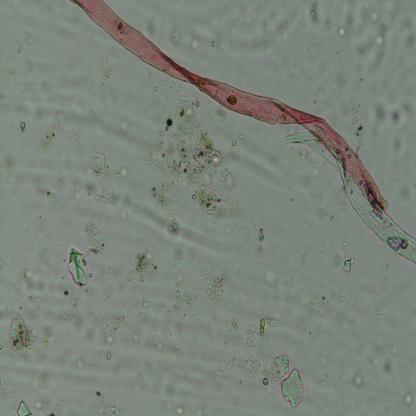Background material: (131, 72, 246, 227), (10, 292, 52, 358), (76, 148, 114, 212), (166, 271, 204, 332), (268, 353, 307, 410), (57, 285, 95, 330), (296, 296, 326, 352), (124, 244, 160, 286), (242, 314, 280, 352), (341, 98, 364, 152), (84, 384, 119, 416), (67, 245, 93, 288), (371, 96, 402, 130), (358, 26, 388, 61), (21, 264, 54, 294), (82, 218, 106, 258), (37, 113, 61, 153), (202, 269, 229, 304), (209, 351, 239, 380), (97, 301, 128, 329), (26, 201, 51, 235), (244, 358, 271, 388), (94, 329, 115, 366), (372, 340, 393, 376), (4, 40, 24, 76), (309, 0, 331, 32), (336, 5, 356, 37), (0, 368, 17, 402), (271, 14, 291, 42), (396, 178, 413, 209), (118, 180, 131, 220), (334, 60, 350, 92), (37, 396, 61, 416), (249, 32, 271, 53), (164, 212, 180, 240), (128, 289, 150, 309), (361, 2, 381, 23), (144, 12, 160, 38), (312, 205, 331, 225), (305, 38, 322, 60), (184, 34, 203, 53), (138, 310, 154, 332), (145, 332, 164, 350), (263, 266, 278, 288), (15, 398, 33, 416), (281, 266, 297, 286), (168, 343, 182, 364), (12, 115, 27, 134), (166, 30, 186, 44), (138, 222, 158, 236), (52, 174, 65, 195), (36, 373, 52, 390), (0, 298, 12, 320), (64, 132, 80, 148), (101, 61, 113, 82), (256, 224, 264, 254), (81, 99, 95, 116), (220, 320, 232, 339), (341, 256, 355, 272), (52, 243, 66, 259), (335, 185, 346, 205), (300, 245, 311, 265), (173, 257, 186, 273), (116, 166, 130, 180), (312, 92, 324, 108), (74, 356, 86, 372), (45, 183, 55, 201), (354, 374, 365, 390), (162, 400, 175, 412), (230, 16, 242, 29), (330, 286, 340, 301), (404, 392, 414, 407), (341, 235, 348, 256), (37, 79, 49, 91), (123, 116, 130, 134), (250, 279, 261, 290), (300, 147, 308, 161), (5, 158, 13, 172), (141, 369, 148, 385), (230, 317, 239, 329), (176, 407, 186, 416), (238, 131, 246, 142), (194, 332, 200, 346), (343, 373, 350, 384), (326, 212, 334, 221), (200, 350, 208, 359), (329, 63, 336, 73), (394, 20, 402, 28), (58, 30, 65, 39), (302, 203, 308, 212), (274, 229, 283, 235), (60, 398, 66, 406), (384, 263, 389, 271), (340, 296, 346, 302), (230, 140, 236, 146), (211, 40, 216, 47), (273, 191, 279, 196), (174, 22, 179, 27), (380, 179, 384, 185), (294, 11, 298, 17), (0, 341, 2, 351), (325, 372, 329, 376), (322, 382, 326, 386)
Cotton: (72, 0, 416, 259)
